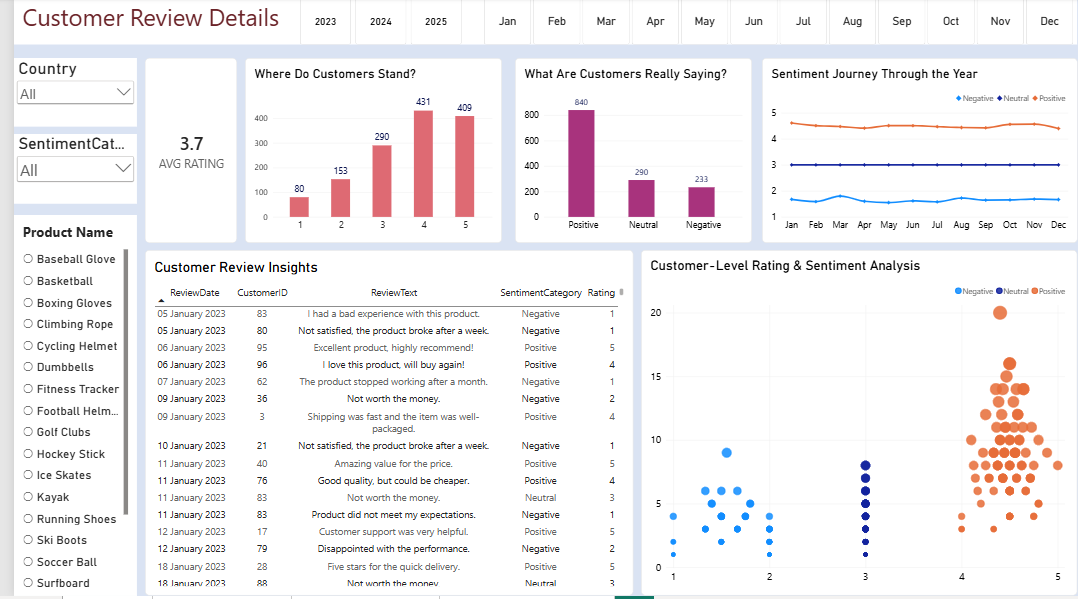

What the dashboard file says about the page in this screenshot:
{"tool":"powerbi","page":{"name":"Customer Review Details","canvas":[1920,1080],"ordinal":3},"visuals":[{"type":"shape","box":[0,0,1920,84],"z":0},{"type":"listSlicer","title":"Product Name","fields":{"Values":["dim_products.ProductName"]},"box":[0,392,222,688],"z":1000},{"type":"cardVisual","fields":{"Data":["dim_customers.AVG RATING"]},"box":[236,108,166,334],"z":2000},{"type":"advancedSlicerVisual","fields":{"Values":["Calendar.Year"]},"box":[516,0,294,84],"z":3000},{"type":"advancedSlicerVisual","fields":{"Values":["Calendar.MonthNameShort"]},"box":[848,0,1072,84],"z":4000},{"type":"textbox","box":[0,6,494,78],"z":5000},{"type":"columnChart","title":"Where Do Customers Stand?","fields":{"Category":["fact_customer_reviews_with_sentiment.Rating"],"Y":["dim_customers.NO. OF CUSTOMERS_REVIEW"]},"box":[418,108,464,334],"z":6000},{"type":"columnChart","title":"What Are Customers Really Saying?","fields":{"Category":["fact_customer_reviews_with_sentiment.SentimentCategory"],"Y":["dim_customers.NO. OF CUSTOMERS_REVIEW"]},"box":[904,108,428,334],"z":7000},{"type":"lineChart","title":"Sentiment Journey Through the Year","fields":{"Category":["Calendar.MonthNameShort"],"Series":["fact_customer_reviews_with_sentiment.SentimentCategory"],"Y":["dim_customers.AVG RATING"]},"box":[1350,108,570,334],"z":8000},{"type":"tableEx","title":"Customer Review Insights","fields":{"Values":["fact_customer_reviews_with_sentiment.ReviewDate","fact_customer_reviews_with_sentiment.CustomerID","fact_customer_reviews_with_sentiment.ReviewText","fact_customer_reviews_with_sentiment.SentimentCategory","fact_customer_reviews_with_sentiment.Rating"]},"box":[236,456,882,624],"z":9000},{"type":"scatterChart","title":"Customer-Level Rating & Sentiment Analysis","fields":{"Category":["dim_customers.CustomerID"],"Series":["fact_customer_reviews_with_sentiment.SentimentCategory"],"X":["dim_customers.AVG RATING"],"Y":["dim_customers.NO. OF CUSTOMERS_REVIEW"],"Size":["dim_customers.NO. OF CUSTOMERS_REVIEW"]},"box":[1132,456,788,624],"z":10000},{"type":"slicer","title":"Country","fields":{"Values":["dim_customers.Country"]},"box":[0,108,222,124],"z":11000},{"type":"slicer","fields":{"Values":["fact_customer_reviews_with_sentiment.SentimentCategory"]},"box":[0,246,222,126],"z":12000}]}

Visuals, with their boxes in screenshot pixels (x1, y1, x2, y2), scaled from the page's 1920x1080 canvas onto the 1078x599 screenshot:
shape: x1=0, y1=0, x2=1077, y2=47
"Product Name" listSlicer: x1=0, y1=217, x2=125, y2=598
cardVisual - dim_customers.AVG RATING: x1=133, y1=60, x2=226, y2=245
advancedSlicerVisual - Calendar.Year: x1=290, y1=0, x2=455, y2=47
advancedSlicerVisual - Calendar.MonthNameShort: x1=476, y1=0, x2=1077, y2=47
textbox: x1=0, y1=3, x2=277, y2=47
"Where Do Customers Stand?" columnChart: x1=235, y1=60, x2=495, y2=245
"What Are Customers Really Saying?" columnChart: x1=508, y1=60, x2=748, y2=245
"Sentiment Journey Through the Year" lineChart: x1=758, y1=60, x2=1077, y2=245
"Customer Review Insights" tableEx: x1=133, y1=253, x2=628, y2=598
"Customer-Level Rating & Sentiment Analysis" scatterChart: x1=636, y1=253, x2=1077, y2=598
"Country" slicer: x1=0, y1=60, x2=125, y2=129
slicer - fact_customer_reviews_with_sentiment.SentimentCategory: x1=0, y1=136, x2=125, y2=206
